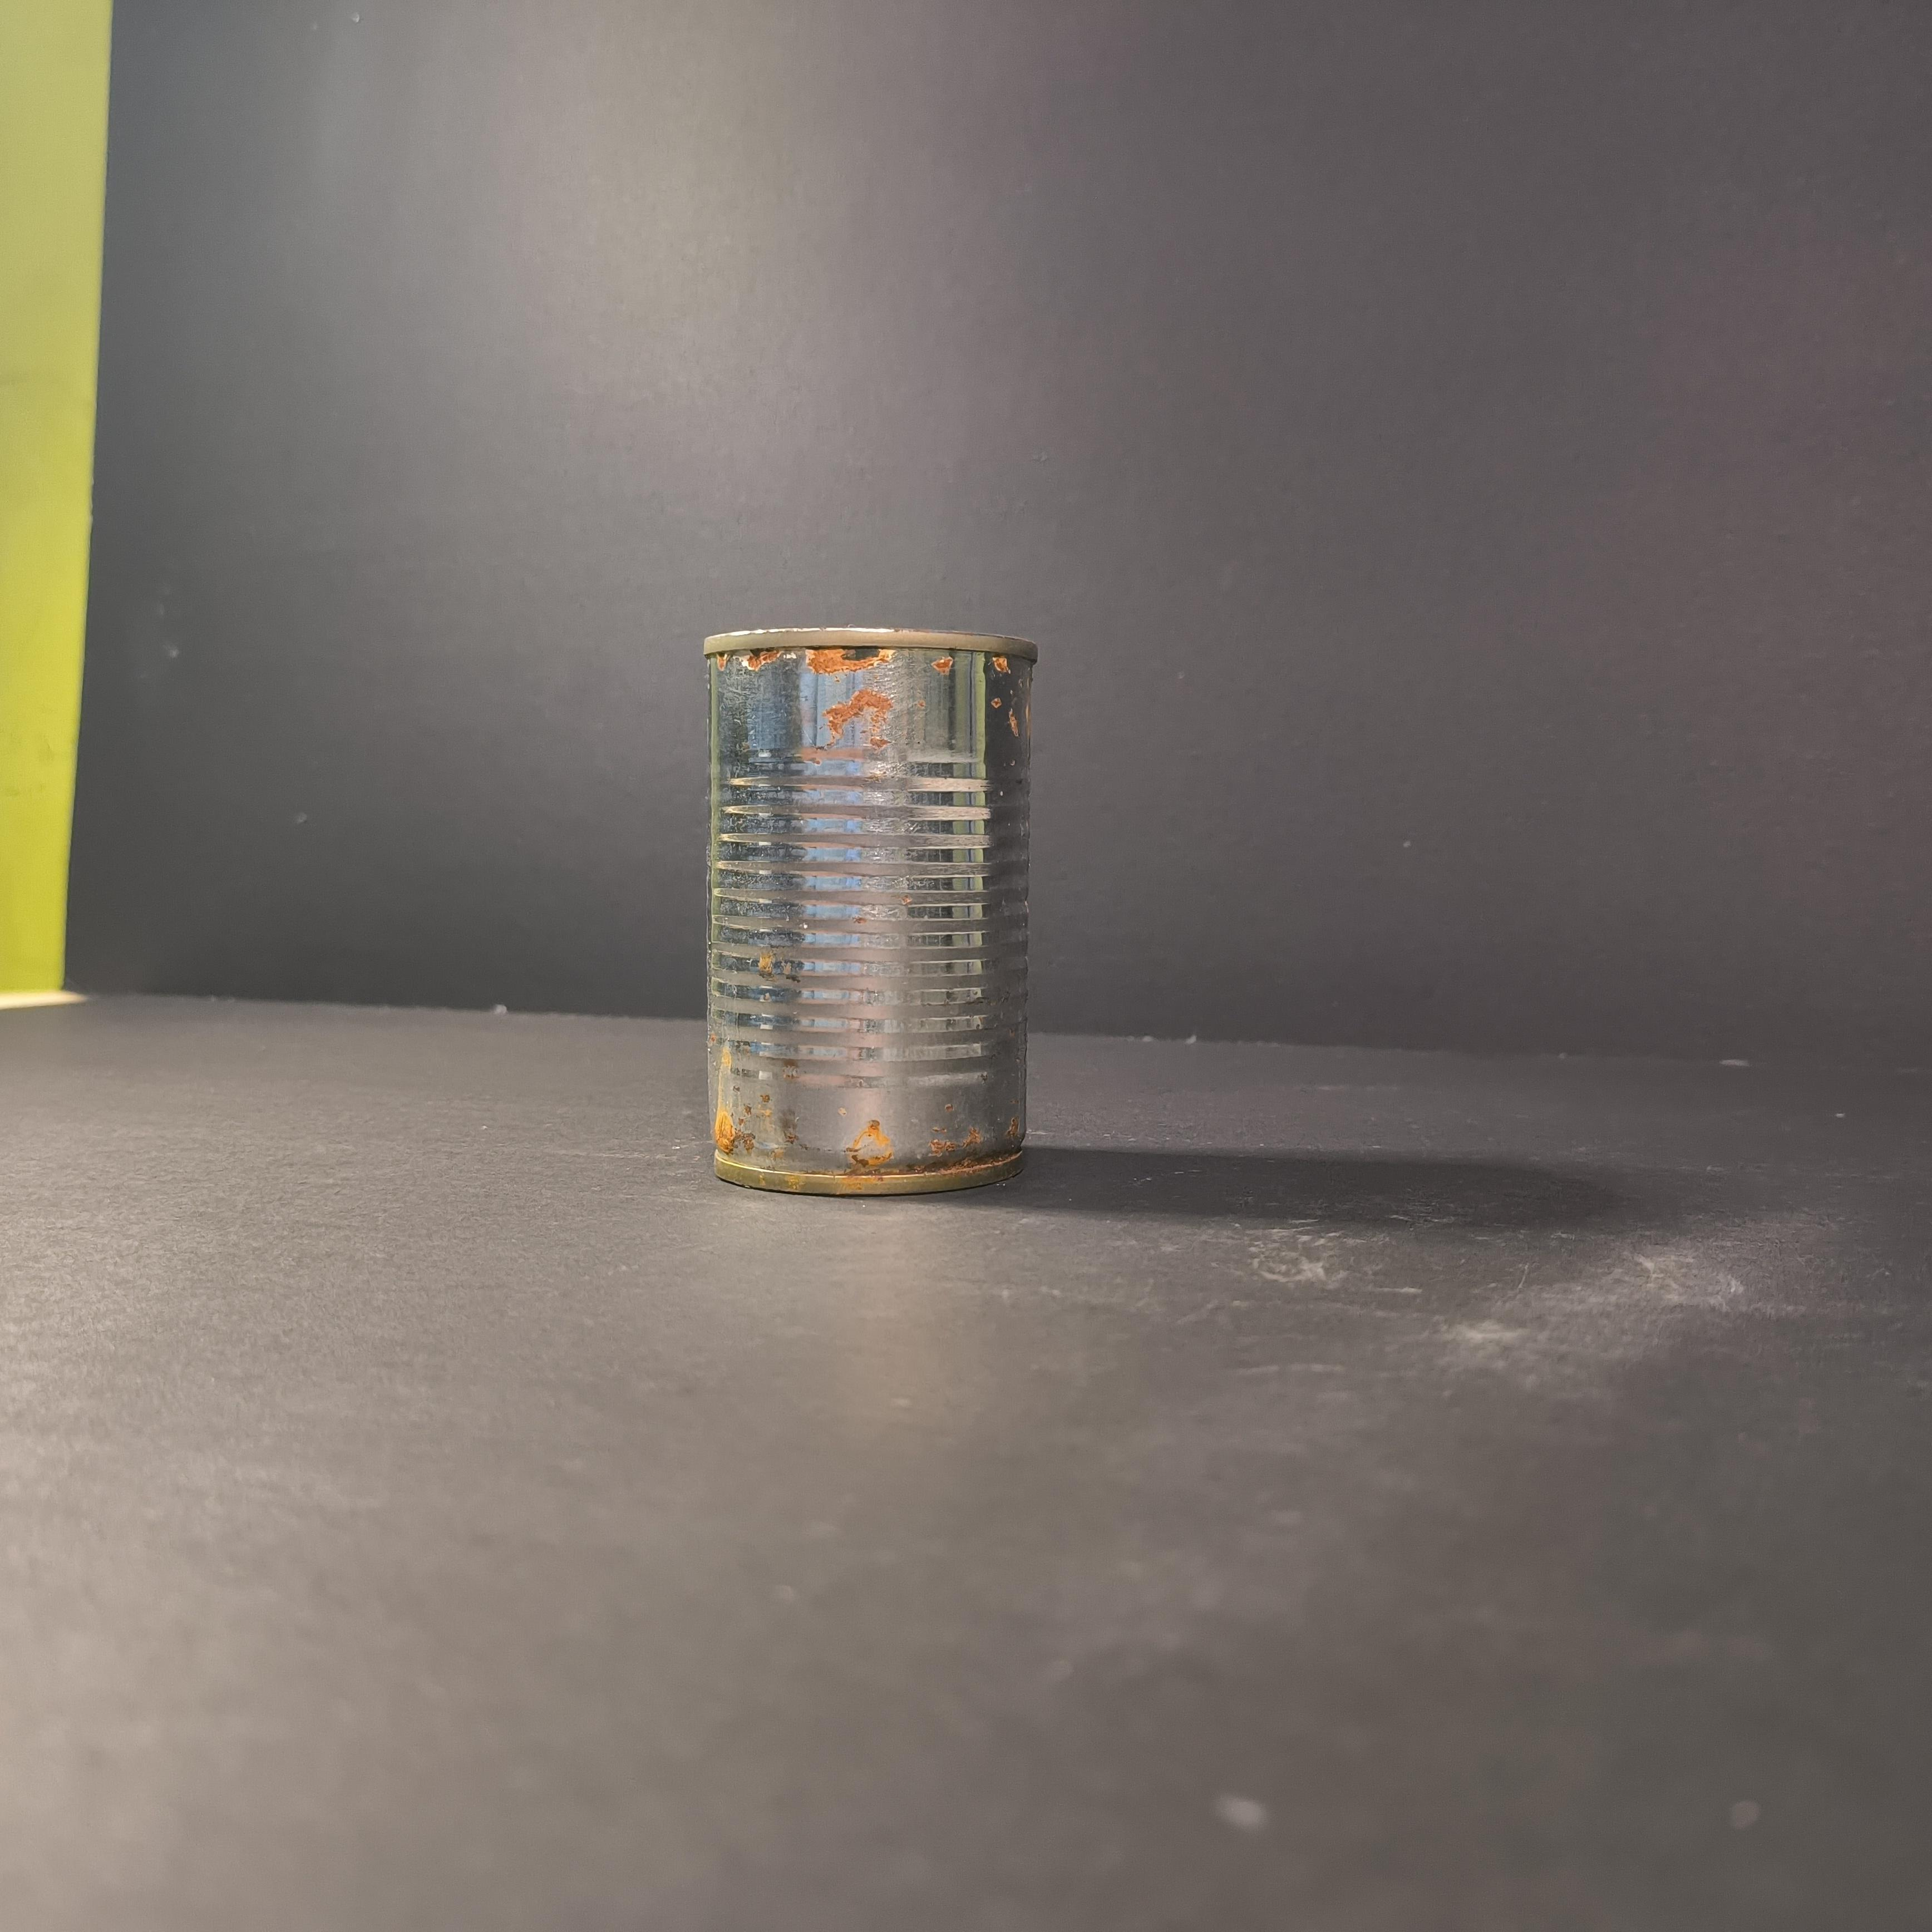Rusted: (690, 603, 1046, 1219)
